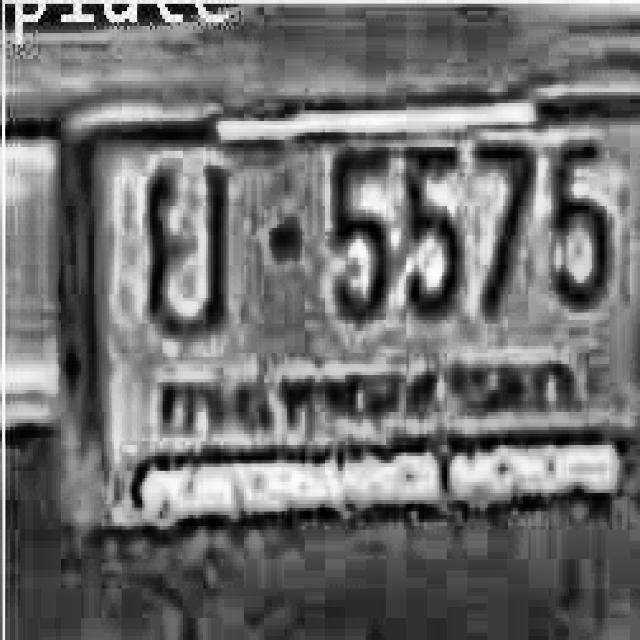license-plate: (57, 78, 640, 558)
